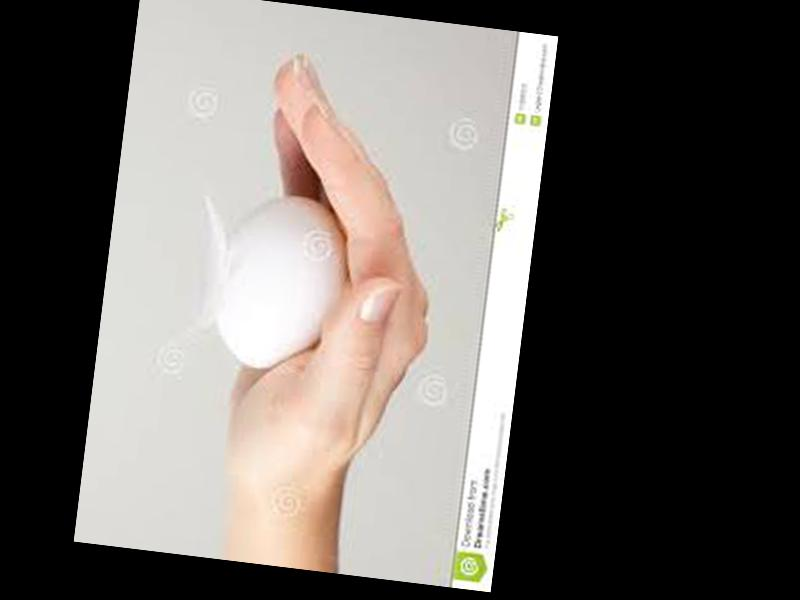Eggs: (211, 186, 354, 378)
